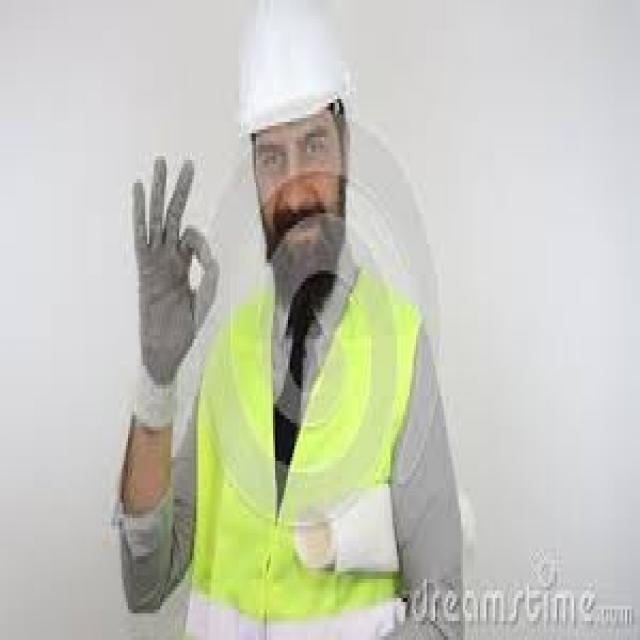Reflective-Jacket: (175, 266, 424, 628)
Safety-Helmet: (228, 3, 361, 148)
